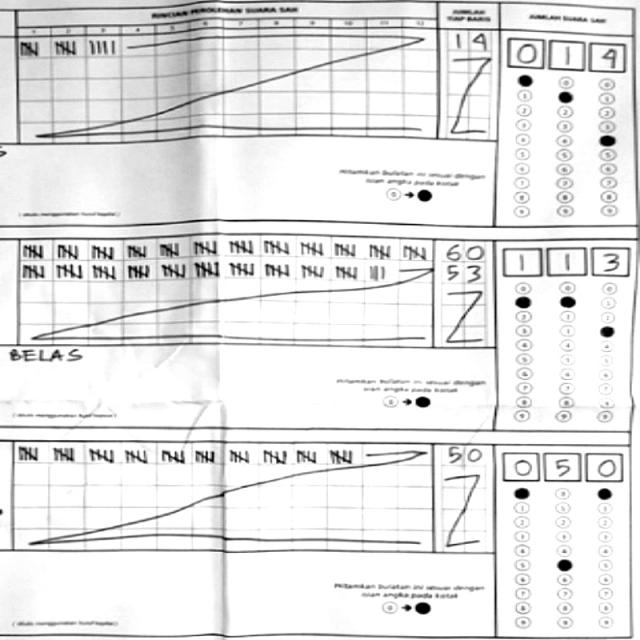Suara: (496, 442, 624, 484), (498, 241, 632, 280), (504, 33, 630, 73)
